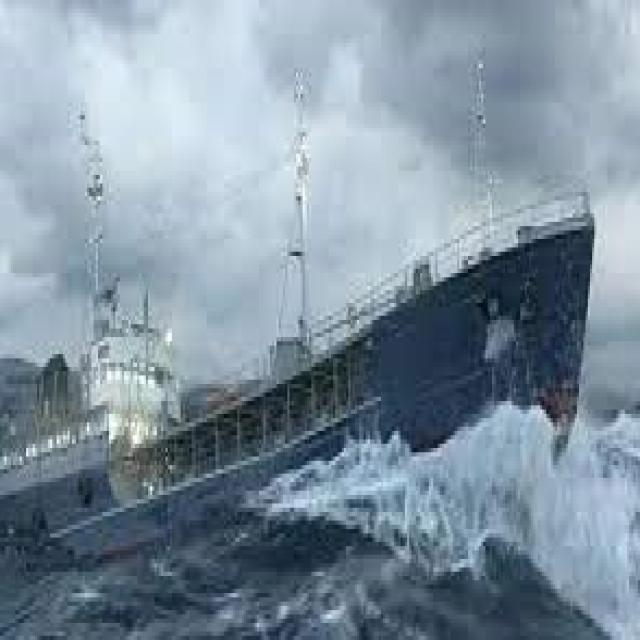cargoship: (18, 136, 591, 484)
